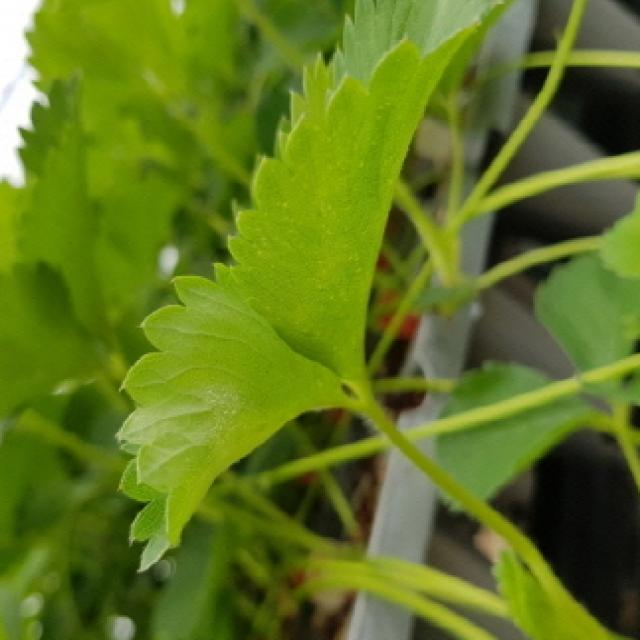Powdery Mildew Leaf: (116, 259, 369, 572)
